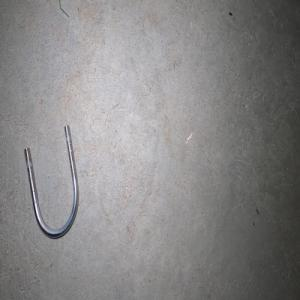ClampPart: (23, 124, 79, 239)
